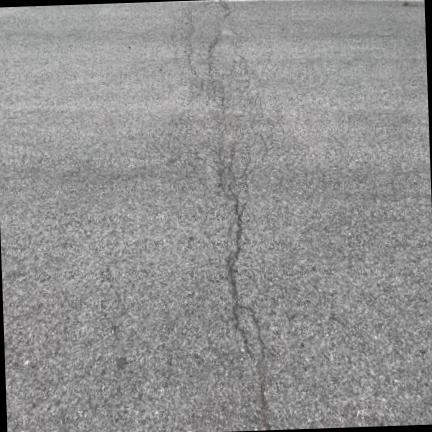Road: (0, 1, 431, 431)
